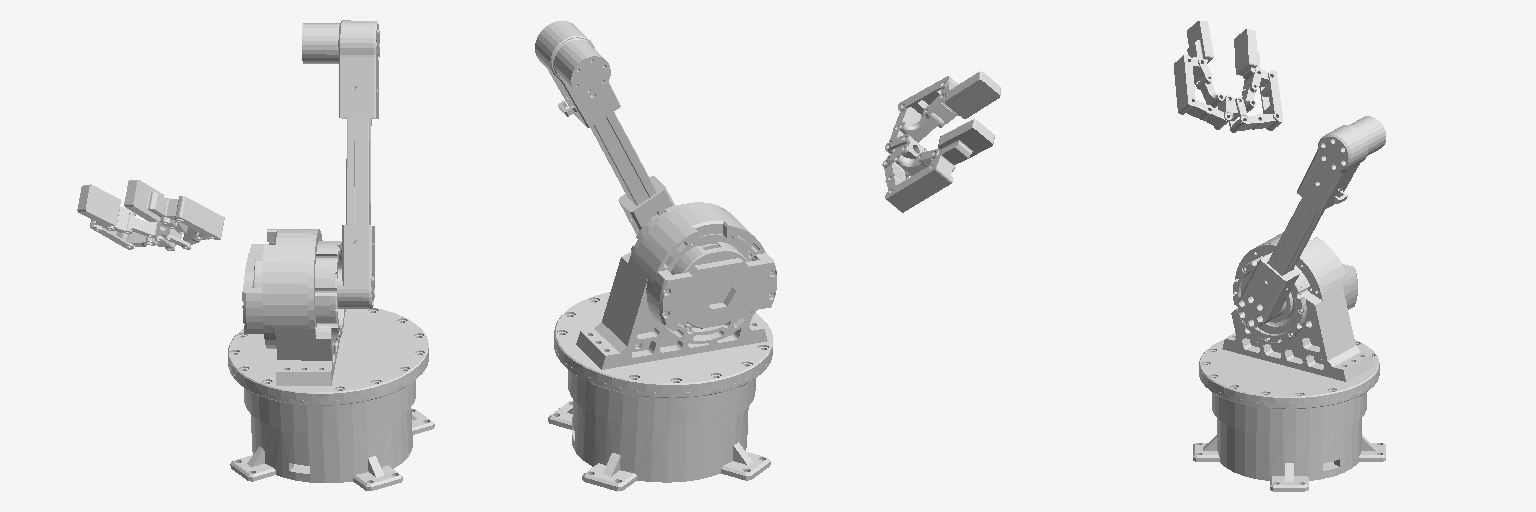
The robot description file, URDF, robot "pallet_gripper":
<?xml version="1.0" encoding="UTF-8"?>
<!-- This URDF was automatically created by SolidWorks to URDF Exporter! Originally created by Stephen Brawner (brawner@gmail.com) 
     Commit Version: 1.6.0-4-g7f85cfe  Build Version: 1.6.7995.38578
     For more information, please see http://wiki.ros.org/sw_urdf_exporter -->
<robot name="pallet_gripper">
  <!-- Native ROS Z-up coordinates; converted from the SolidWorks Y-up export. -->
  <link name="base_footprint"/>
  <joint name="base_footprint_joint" type="fixed">
    <!-- Raise the lowest point of the normalized base mesh to z=0. -->
    <origin xyz="0 0 0.0042247553356" rpy="0 0 0"/>
    <parent link="base_footprint"/>
    <child link="base_link"/>
  </joint>
  <link name="base_link">
    <inertial>
      <origin xyz="-0.0017738 -5.75909999913e-08 0.039216" rpy="0 0 0"/>
      <mass value="0.76777"/>
      <inertia ixx="0.0012084" ixy="6.2774e-06" ixz="-4.267e-05" iyy="0.0012021" iyz="2.8312e-07" izz="0.0021498"/>
    </inertial>
    <visual>
      <origin xyz="0 0 0" rpy="0 0 0"/>
      <geometry>
        <mesh filename="package://pallet_gripper/meshes/base_link.STL"/>
      </geometry>
      <material name="">
        <color rgba="0.89412 0.89412 0.89412 1"/>
      </material>
    </visual>
    <collision>
      <origin xyz="0 0 0" rpy="0 0 0"/>
      <geometry>
        <mesh filename="package://pallet_gripper/meshes/collision/base_link_collision.obj"/>
      </geometry>
    </collision>
  </link>
  <link name="J1">
    <inertial>
      <origin xyz="0.0091039 -0.0063557 0.072516" rpy="0 0 0"/>
      <mass value="0.90348"/>
      <inertia ixx="0.0013882" ixy="-0.00020438" ixz="-4.7994e-05" iyy="0.0016343" iyz="-1.6853e-05" izz="0.002157"/>
    </inertial>
    <visual>
      <origin xyz="0 0 0" rpy="0 0 0"/>
      <geometry>
        <mesh filename="package://pallet_gripper/meshes/no.1.STL"/>
      </geometry>
      <material name="">
        <color rgba="0.89412 0.89412 0.89412 1"/>
      </material>
    </visual>
    <collision>
      <origin xyz="0 0 0" rpy="0 0 0"/>
      <geometry>
        <mesh filename="package://pallet_gripper/meshes/collision/no.1_collision.obj"/>
      </geometry>
    </collision>
  </link>
  <joint name="J1" type="revolute">
    <origin xyz="-0.0019451 0 0.043004" rpy="0.0192105439766 0.0409123320909 -2.70258976292"/>
    <parent link="base_link"/>
    <child link="J1"/>
    <axis xyz="0 0 1"/>
    <limit lower="-3.14" upper="3.14" effort="14" velocity="6.28"/>
  </joint>
  <link name="J2">
    <inertial>
      <origin xyz="-0.12461 -0.022348 2.4879e-05" rpy="0 0 0"/>
      <mass value="0.19043"/>
      <inertia ixx="6.2071e-05" ixy="7.1942e-06" ixz="0" iyy="0.00017425" iyz="1.55550000001e-09" izz="0.00020011"/>
    </inertial>
    <visual>
      <origin xyz="0 0 0" rpy="0 0 0"/>
      <geometry>
        <mesh filename="package://pallet_gripper/meshes/no.2.STL"/>
      </geometry>
      <material name="">
        <color rgba="0.89412 0.89412 0.89412 1"/>
      </material>
    </visual>
    <collision>
      <origin xyz="0 0 0" rpy="0 0 0"/>
      <geometry>
        <mesh filename="package://pallet_gripper/meshes/collision/no.2_collision.obj"/>
      </geometry>
    </collision>
  </link>
  <joint name="J2" type="revolute">
    <origin xyz="0.013308 0.0076835 0.11835" rpy="3.14158980267 1.08661880453 0.523588156725"/>
    <parent link="J1"/>
    <child link="J2"/>
    <axis xyz="0 -1 0"/>
    <limit lower="-3.14" upper="3.14" effort="36" velocity="6.28"/>
  </joint>
  <link name="J3">
    <inertial>
      <origin xyz="-0.020747 -0.043723 -2.4696e-05" rpy="0 0 0"/>
      <mass value="0.46509"/>
      <inertia ixx="0.00038727" ixy="1.9311e-05" ixz="3.4702e-08" iyy="0.00027261" iyz="3.8077e-07" izz="0.00035543"/>
    </inertial>
    <visual>
      <origin xyz="0 0 0" rpy="0 0 0"/>
      <geometry>
        <mesh filename="package://pallet_gripper/meshes/no.3.STL"/>
      </geometry>
      <material name="">
        <color rgba="0.89412 0.89412 0.89412 1"/>
      </material>
    </visual>
    <collision>
      <origin xyz="0 0 0" rpy="0 0 0"/>
      <geometry>
        <mesh filename="package://pallet_gripper/meshes/collision/no.3_collision.obj"/>
      </geometry>
    </collision>
  </link>
  <joint name="J3" type="revolute">
    <origin xyz="-0.2135 0 0" rpy="2.986 0 -1.5708"/>
    <parent link="J2"/>
    <child link="J3"/>
    <axis xyz="1 0 0"/>
    <limit lower="-3.14" upper="3.14" effort="14" velocity="6.28"/>
  </joint>
  <link name="J4">
    <inertial>
      <origin xyz="-0.001517 -0.053987 1.5799e-05" rpy="0 0 0"/>
      <mass value="0.058621"/>
      <inertia ixx="2.2241e-05" ixy="-2.0198e-06" ixz="-2.0556e-08" iyy="2.2662e-05" iyz="2.4342e-09" izz="2.5188e-05"/>
    </inertial>
    <visual>
      <origin xyz="0 0 0" rpy="0 0 0"/>
      <geometry>
        <mesh filename="package://pallet_gripper/meshes/no.4.STL"/>
      </geometry>
      <material name="">
        <color rgba="1 1 1 1"/>
      </material>
    </visual>
    <collision>
      <origin xyz="0 0 0" rpy="0 0 0"/>
      <geometry>
        <mesh filename="package://pallet_gripper/meshes/collision/no.4_collision.obj"/>
      </geometry>
    </collision>
  </link>
  <joint name="J4" type="revolute">
    <origin xyz="-0.0079993 -0.16723 -0.00015" rpy="0 -0.61608 0"/>
    <parent link="J3"/>
    <child link="J4"/>
    <axis xyz="0 -1 0"/>
    <limit lower="-3.14" upper="3.14" effort="5.5" velocity="6.28"/>
  </joint>
  <link name="J5">
    <inertial>
      <origin xyz="9.2524e-05 0.04622 -1.4413e-05" rpy="0 0 0"/>
      <mass value="0.14465"/>
      <inertia ixx="6.2896e-05" ixy="-8.708e-06" ixz="2.8786e-07" iyy="7.3519e-05" iyz="4.1718e-08" izz="7.0929e-05"/>
    </inertial>
    <visual>
      <origin xyz="0 0 0" rpy="0 0 0"/>
      <geometry>
        <mesh filename="package://pallet_gripper/meshes/no.5.STL"/>
      </geometry>
      <material name="">
        <color rgba="0.89412 0.89412 0.89412 1"/>
      </material>
    </visual>
    <collision>
      <origin xyz="0 0 0" rpy="0 0 0"/>
      <geometry>
        <mesh filename="package://pallet_gripper/meshes/collision/no.5_collision.obj"/>
      </geometry>
    </collision>
  </link>
  <joint name="J5" type="revolute">
    <origin xyz="0 -0.065768 0" rpy="1.78369265359 7.34641020683e-06 3.14159265359"/>
    <parent link="J4"/>
    <child link="J5"/>
    <axis xyz="1 0 0"/>
    <limit lower="-3.14" upper="3.14" effort="5.5" velocity="6.28"/>
  </joint>
  <link name="J6">
    <inertial>
      <origin xyz="-5.1051e-06 0.00012739 -0.0028486" rpy="0 0 0"/>
      <mass value="0.16095"/>
      <inertia ixx="8.0162e-05" ixy="-7.8838e-06" ixz="5.4833e-07" iyy="6.4407e-05" iyz="3.2626e-07" izz="8.6397e-05"/>
    </inertial>
    <visual>
      <origin xyz="0 0 0" rpy="0 0 0"/>
      <geometry>
        <mesh filename="package://pallet_gripper/meshes/gripper.STL"/>
      </geometry>
      <material name="">
        <color rgba="0.89412 0.89412 0.89412 1"/>
      </material>
    </visual>
    <collision>
      <origin xyz="0 0 0" rpy="0 0 0"/>
      <geometry>
        <mesh filename="package://pallet_gripper/meshes/collision/gripper_collision.obj"/>
      </geometry>
    </collision>
  </link>
  <joint name="J6" type="revolute">
    <origin xyz="0.00205 0.15365 0" rpy="1.57079265359 1.19689265359 -3.14159265359"/>
    <parent link="J5"/>
    <child link="J6"/>
    <axis xyz="0 0 1"/>
    <limit lower="-3.14" upper="3.14" effort="10" velocity="3.14"/>
  </joint>
  <link name="J7">
    <inertial>
      <origin xyz="0 0 0.008" rpy="0 0 0"/>
      <mass value="0.0028394"/>
      <inertia ixx="1.3317e-07" ixy="0" ixz="0" iyy="1.2761e-07" iyz="0" izz="1.4347e-07"/>
    </inertial>
    <visual>
      <origin xyz="0 0 0" rpy="0 0 0"/>
      <geometry>
        <mesh filename="package://pallet_gripper/meshes/move_gripper.STL"/>
      </geometry>
      <material name="">
        <color rgba="0.89412 0.89412 0.89412 1"/>
      </material>
    </visual>
    <collision>
      <origin xyz="0 0 0" rpy="0 0 0"/>
      <geometry>
        <mesh filename="package://pallet_gripper/meshes/collision/move_gripper_collision.obj"/>
      </geometry>
    </collision>
  </link>
  <joint name="J7" type="fixed">
    <origin xyz="0 0 0.029921" rpy="0 0 1.1781"/>
    <parent link="J6"/>
    <child link="J7"/>
  </joint>
  <!--
    TCP at the midpoint of the two zero-position fingertip endpoints.
    J7 +Z is the outward approach direction through the jaw center.
  -->
  <link name="tcp"/>
  <joint name="tcp_joint" type="fixed">
    <origin xyz="0 0 0.094545039" rpy="0 0 0"/>
    <parent link="J7"/>
    <child link="tcp"/>
  </joint>
  <link name="J8">
    <inertial>
      <origin xyz="-0.033504 0.0082666 -0.029535" rpy="0 0 0"/>
      <mass value="0.03017"/>
      <inertia ixx="2.504e-06" ixy="-6.2888e-08" ixz="-1.5917e-07" iyy="5.8268e-06" iyz="-2.842e-08" izz="5.4734e-06"/>
    </inertial>
    <visual>
      <origin xyz="0 0 0" rpy="0 0 0"/>
      <geometry>
        <mesh filename="package://pallet_gripper/meshes/gripper_r.STL"/>
      </geometry>
      <material name="">
        <color rgba="0.89412 0.89412 0.89412 1"/>
      </material>
    </visual>
    <collision>
      <origin xyz="0 0 0" rpy="0 0 0"/>
      <geometry>
        <mesh filename="package://pallet_gripper/meshes/collision/gripper_r_collision.obj"/>
      </geometry>
    </collision>
  </link>
  <joint name="J8" type="revolute">
    <origin xyz="-0.007486 -0.0082 0.0031518" rpy="-3.14159265359 1.39629265359 -3.14159265359"/>
    <parent link="J7"/>
    <child link="J8"/>
    <axis xyz="0 1 0"/>
    <limit lower="0" upper="0.103" effort="10" velocity="1.0"/>
  </joint>
  <link name="J9">
    <inertial>
      <origin xyz="-0.033445 0.0082666 0.029588" rpy="0 0 0"/>
      <mass value="0.03017"/>
      <inertia ixx="2.5076e-06" ixy="-6.2857e-08" ixz="1.4934e-07" iyy="5.8268e-06" iyz="2.8537e-08" izz="5.4698e-06"/>
    </inertial>
    <visual>
      <origin xyz="0 0 0" rpy="0 0 0"/>
      <geometry>
        <mesh filename="package://pallet_gripper/meshes/gripper_l.STL"/>
      </geometry>
      <material name="">
        <color rgba="0.89412 0.89412 0.89412 1"/>
      </material>
    </visual>
    <collision>
      <origin xyz="0 0 0" rpy="0 0 0"/>
      <geometry>
        <mesh filename="package://pallet_gripper/meshes/collision/gripper_l_collision.obj"/>
      </geometry>
    </collision>
  </link>
  <joint name="J9" type="revolute">
    <origin xyz="0.007486 -0.0082 0.0031518" rpy="0 1.3963 0"/>
    <parent link="J7"/>
    <child link="J9"/>
    <axis xyz="0 1 0"/>
    <limit lower="-0.103" upper="0" effort="10" velocity="1.0"/>
    <mimic joint="J8" multiplier="-1" offset="0"/>
  </joint>
</robot>

--- Render facts (derived) ---
The picture shows the robot from 3 angles, left to right: view 1: azimuth 30°, elevation 25°; view 2: azimuth 150°, elevation 25°; view 3: azimuth 270°, elevation 25°; orthographic projection.
Model pallet_gripper with 12 links and 11 joints (8 revolute, 3 fixed), rooted at base_footprint, posed all joints at 0.
Links seen in each view (by area): view 1: J1, J2, base_link, J9, J8; view 2: J1, base_link, J2, J8, J9; view 3: J1, J2, base_link, J9, J8.
Link boxes in pixels (x1=…): J1: x1=228, y1=229, x2=428, y2=434; J2: x1=302, y1=20, x2=379, y2=308; base_link: x1=230, y1=408, x2=434, y2=490; J9: x1=124, y1=180, x2=224, y2=249; J8: x1=77, y1=184, x2=175, y2=250; J1: x1=554, y1=202, x2=776, y2=429; base_link: x1=548, y1=399, x2=770, y2=491; J2: x1=535, y1=20, x2=674, y2=234; J8: x1=882, y1=119, x2=994, y2=212; J9: x1=885, y1=71, x2=1000, y2=153; J1: x1=1199, y1=233, x2=1379, y2=436; J2: x1=1237, y1=116, x2=1385, y2=327; base_link: x1=1193, y1=418, x2=1385, y2=491; J9: x1=1174, y1=21, x2=1233, y2=129; J8: x1=1229, y1=29, x2=1282, y2=132.
Size in the robot's own frame: 0.3751 by 0.2061 by 0.378 metres.
Meshes: 10 distinct files referenced, 6 mesh visuals loaded (6 binary STL); not drawn: 4 (reference not matched to a file when rendering).
